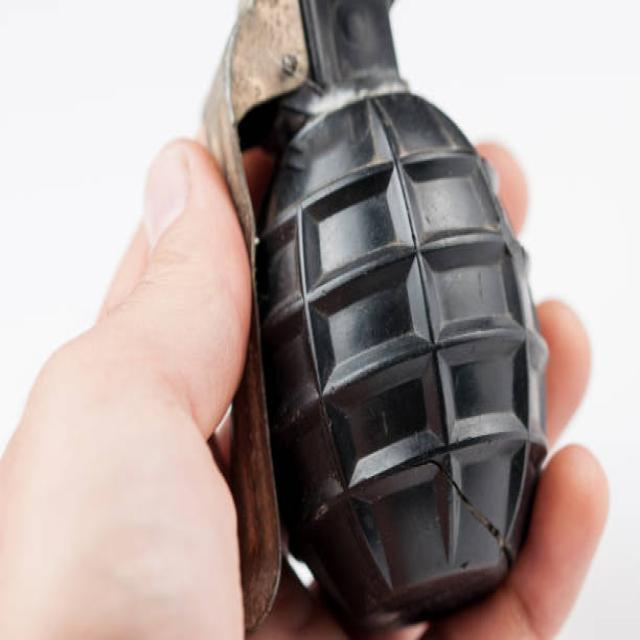grenade: (206, 1, 556, 640)
